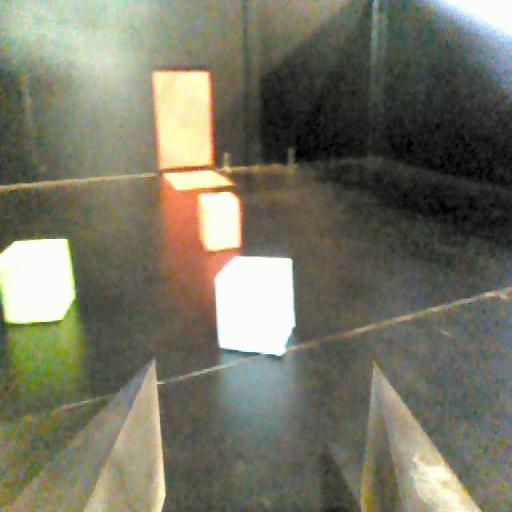cube: (212, 254, 300, 364), (0, 232, 78, 329), (192, 184, 246, 257)
